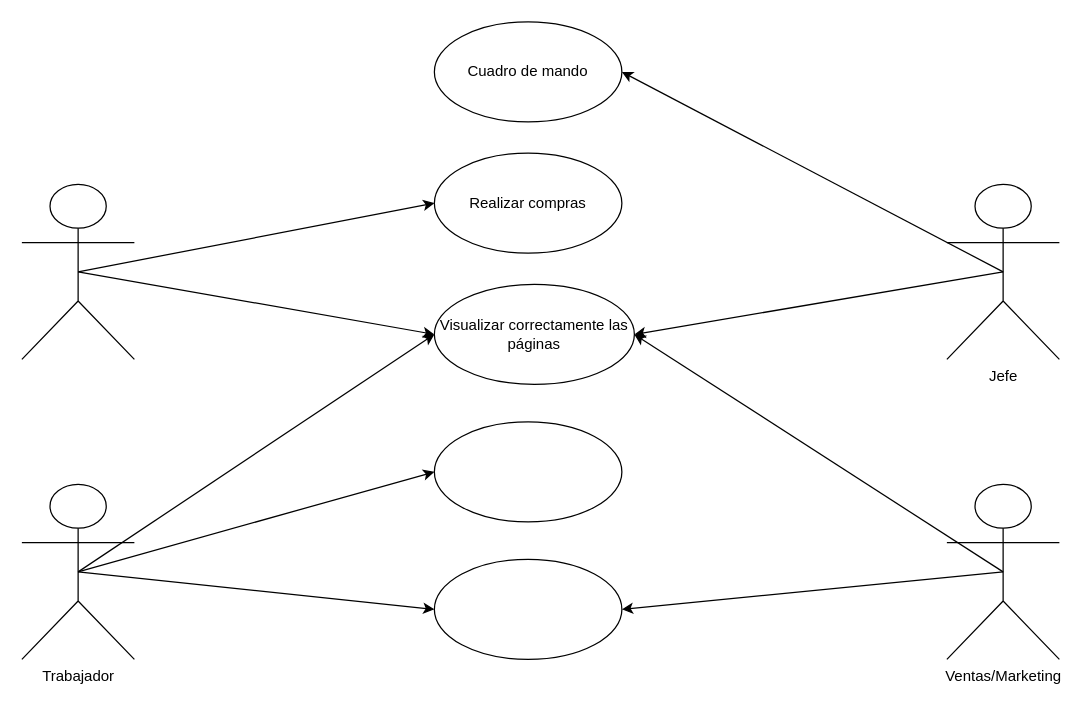
Image size: 1083x708. Some labels were removed from this diagram. Here are the shapes that lost their labels. From the top down, the box of each, then its label:
(21, 183, 134, 359): Cliente
(433, 421, 622, 522): Sistema de fichar
(433, 558, 622, 659): Gestión, planificación y seguimiento de la producción
